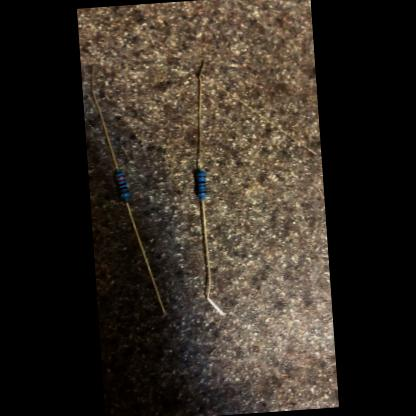resistor: (115, 172, 130, 200), (196, 170, 207, 197)
wire: (124, 197, 166, 316), (90, 64, 119, 172), (200, 198, 225, 316), (192, 61, 212, 169)
